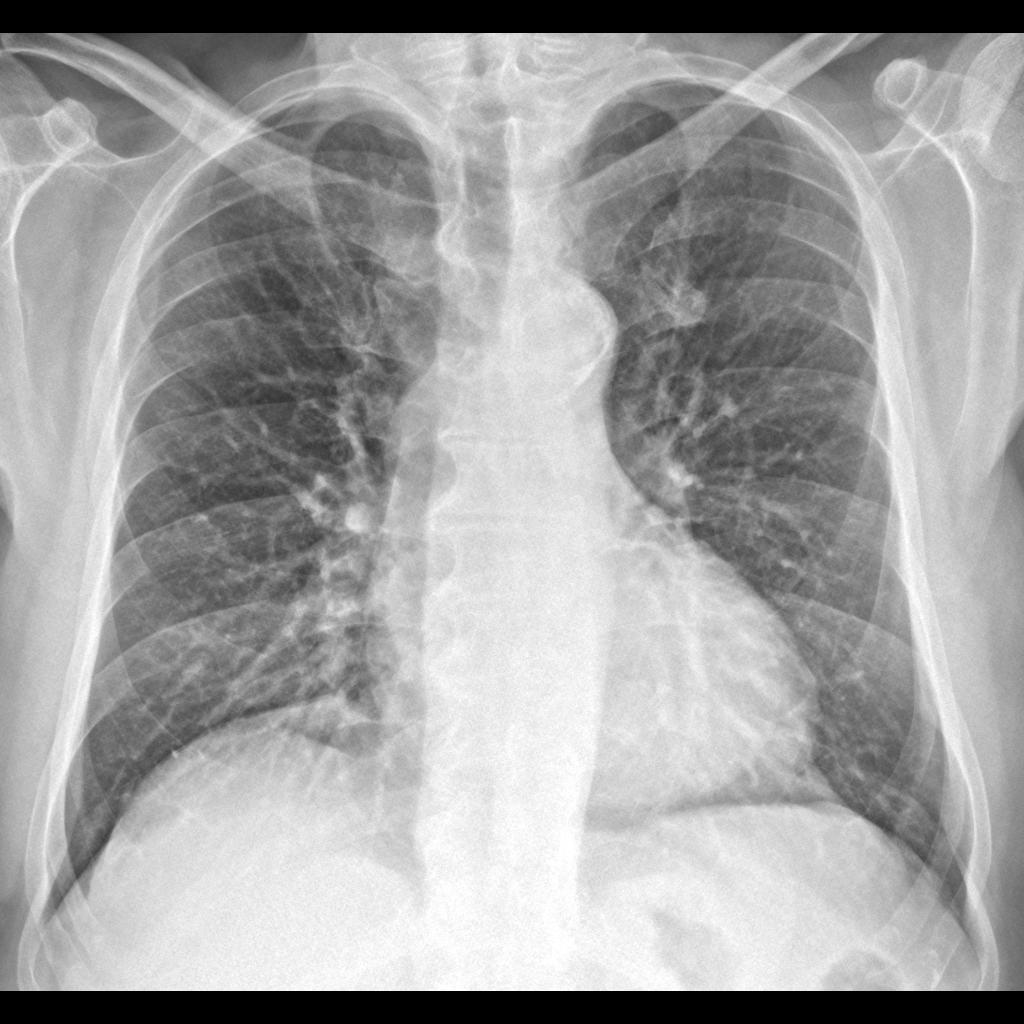Nodule: (661, 277, 725, 347)
